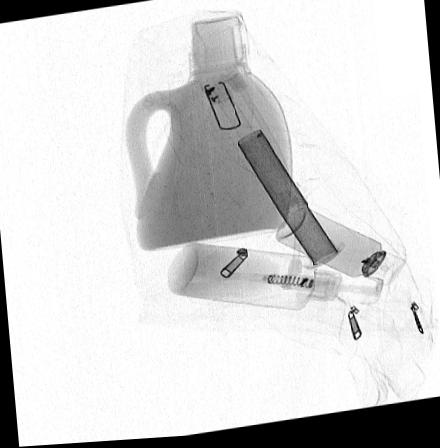Sprayer: (276, 211, 406, 290)
